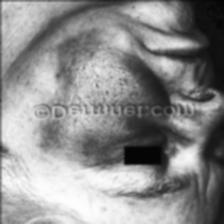Toxin: (47, 37, 163, 102), (37, 118, 172, 145), (197, 86, 222, 128)
